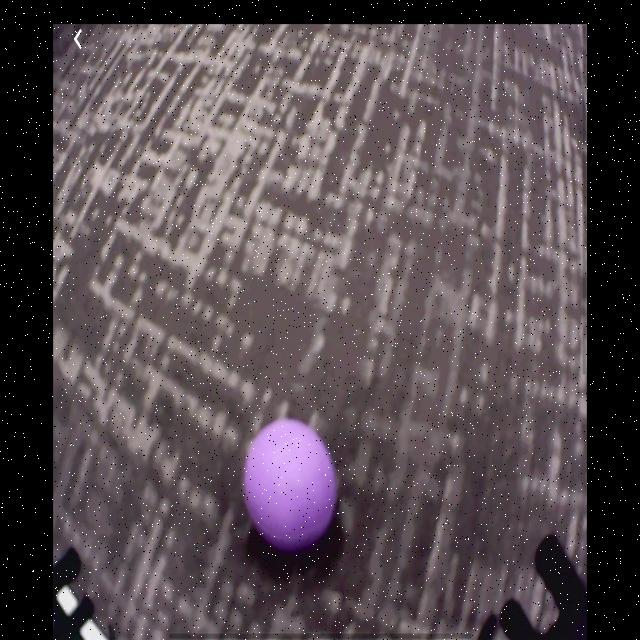ball: (243, 422, 341, 555)
